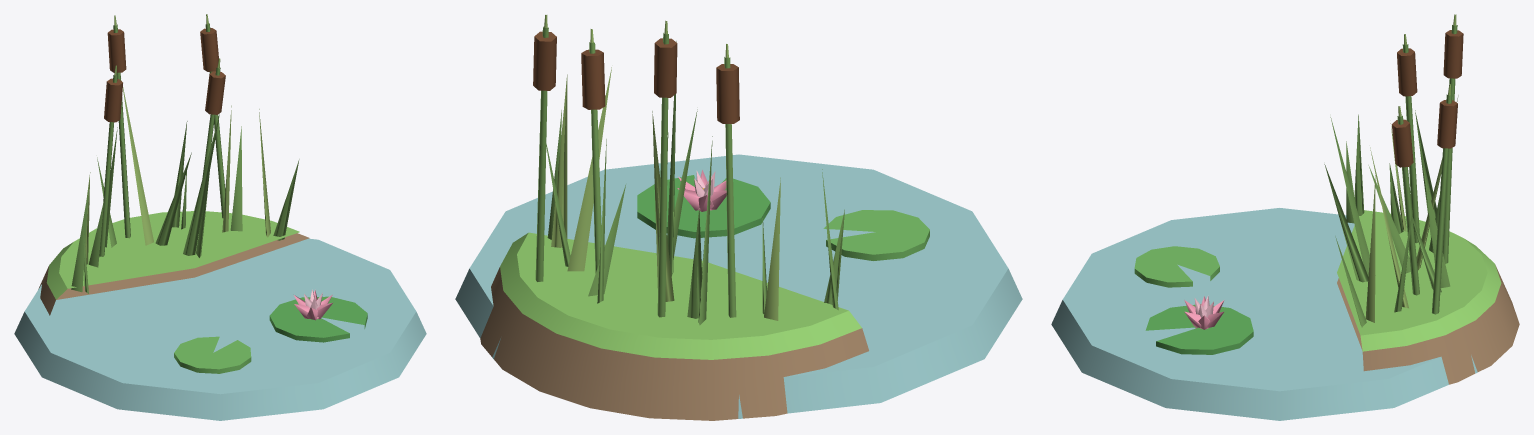
Rendered from reeds_lily_pads.glb.
The picture shows the model from 3 angles, left to right: view 1: azimuth 30°, elevation 25°; view 2: azimuth 150°, elevation 25°; view 3: azimuth 270°, elevation 25°; orthographic projection. The views are drawn at different scales.
Parts seen in each view (by area): view 1: water, bank_grass, lily_pad_1, bank_mud, lily_pad_2, reed_blade_7, reed_blade_2, cattail_2_stem, cattail_1_stem, reed_blade_4b, cattail_1_head, cattail_3_head (+10 smaller); view 2: water, bank_grass, bank_mud, lily_pad_2, lily_pad_1, cattail_2_stem, reed_blade_4, cattail_1_stem, cattail_4_stem, reed_blade_6, cattail_3_head, cattail_1_head (+13 smaller); view 3: water, bank_grass, bank_mud, lily_pad_1, lily_pad_2, cattail_4_stem, cattail_3_stem, cattail_4_head, cattail_2_head, reed_blade_7b, cattail_1_stem, cattail_1_head (+11 smaller).
Part boxes in pixels (<box>): water: <box>14,238,426,420</box>; bank_grass: <box>46,211,299,299</box>; lily_pad_1: <box>269,296,367,342</box>; bank_mud: <box>38,233,309,315</box>; lily_pad_2: <box>174,336,251,373</box>; reed_blade_7: <box>183,111,220,255</box>; reed_blade_2: <box>121,80,153,245</box>; cattail_2_stem: <box>113,24,130,238</box>; cattail_1_stem: <box>99,75,117,256</box>; reed_blade_4b: <box>230,126,242,231</box>; cattail_1_head: <box>104,78,122,122</box>; cattail_3_head: <box>205,71,225,114</box>; water: <box>455,154,1022,418</box>; bank_grass: <box>500,232,861,359</box>; bank_mud: <box>480,267,868,420</box>; lily_pad_2: <box>823,210,929,260</box>; lily_pad_1: <box>637,175,770,238</box>; cattail_2_stem: <box>657,33,668,317</box>; reed_blade_4: <box>567,67,611,271</box>; cattail_1_stem: <box>724,57,736,317</box>; cattail_4_stem: <box>535,26,548,281</box>; reed_blade_6: <box>551,74,567,247</box>; cattail_3_head: <box>581,49,605,109</box>; cattail_1_head: <box>716,64,739,123</box>; water: <box>1051,208,1477,420</box>; bank_grass: <box>1337,210,1501,351</box>; bank_mud: <box>1337,265,1519,384</box>; lily_pad_1: <box>1145,304,1253,354</box>; lily_pad_2: <box>1134,246,1219,287</box>; cattail_4_stem: <box>1432,94,1452,314</box>; cattail_3_stem: <box>1397,115,1419,295</box>; cattail_4_head: <box>1437,100,1457,148</box>; cattail_2_head: <box>1443,30,1463,78</box>; reed_blade_7b: <box>1324,164,1368,282</box>; cattail_1_stem: <box>1402,44,1419,243</box>; cattail_1_head: <box>1397,48,1417,96</box>.
Bounding box in the file's own units: 2 × 1.43 × 2.05.
